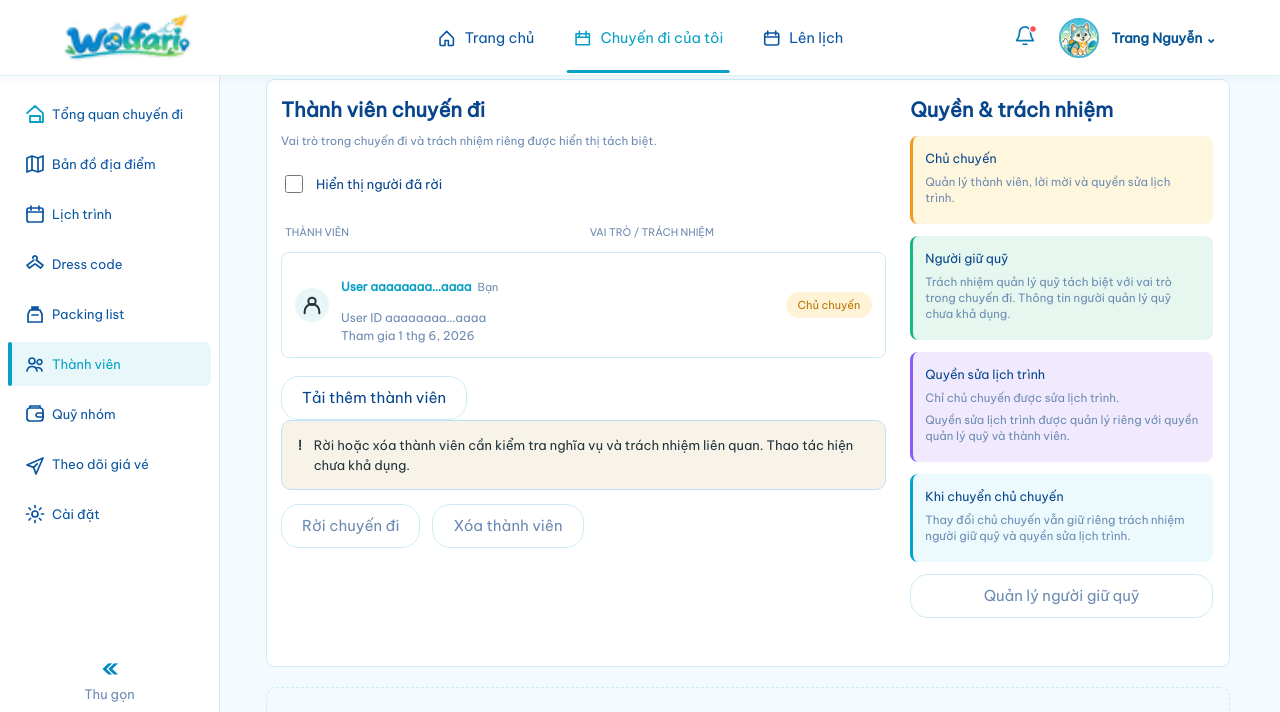
Test: loads opaque member pages, deduplicates IDs, and resets pagination when showing departed members
The width and height of the screenshot is (1280, 712).
(page scrolled)
Click the button "Tải thêm thành viên".
click(374, 398)  # box top-left (281, 376), bottom-right (467, 420)
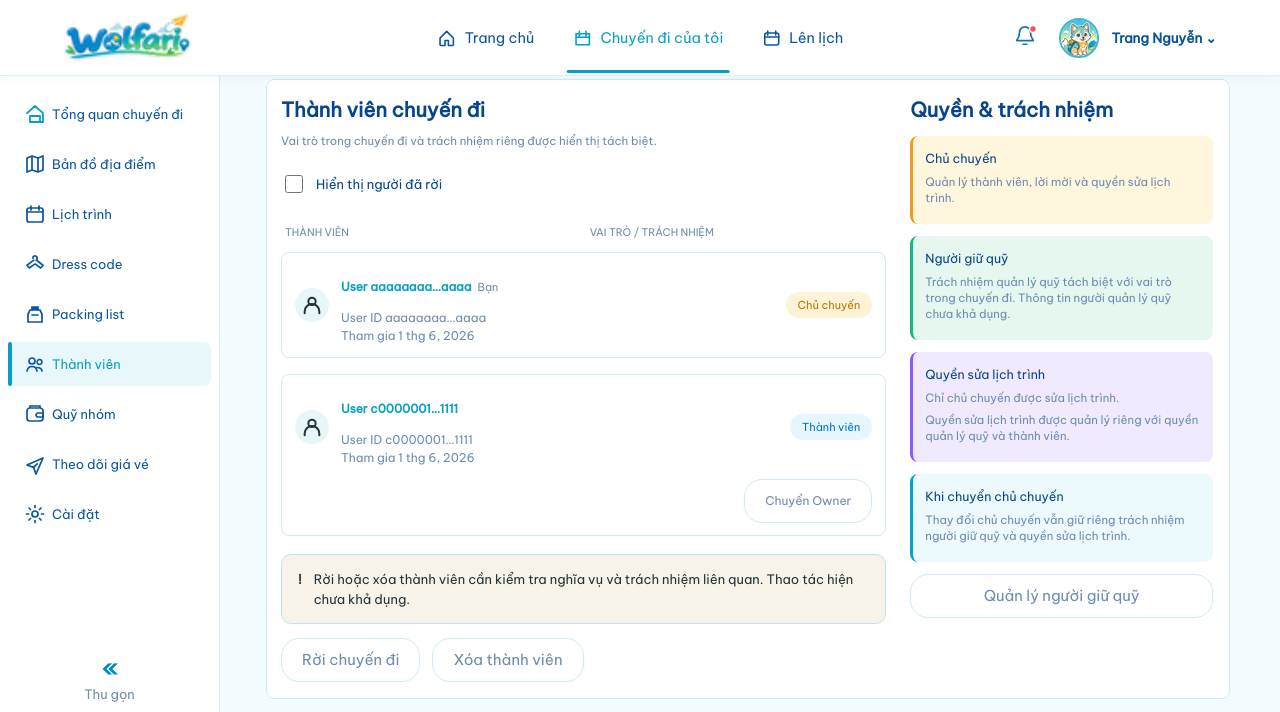
Expected: the text "User aaaaaaaa…aaaa" is shown once, top-left (341, 276), bottom-right (472, 298)
Click the checkbox labelled "Hiển thị người đã rời".
click(294, 184)  # box top-left (285, 175), bottom-right (303, 193)
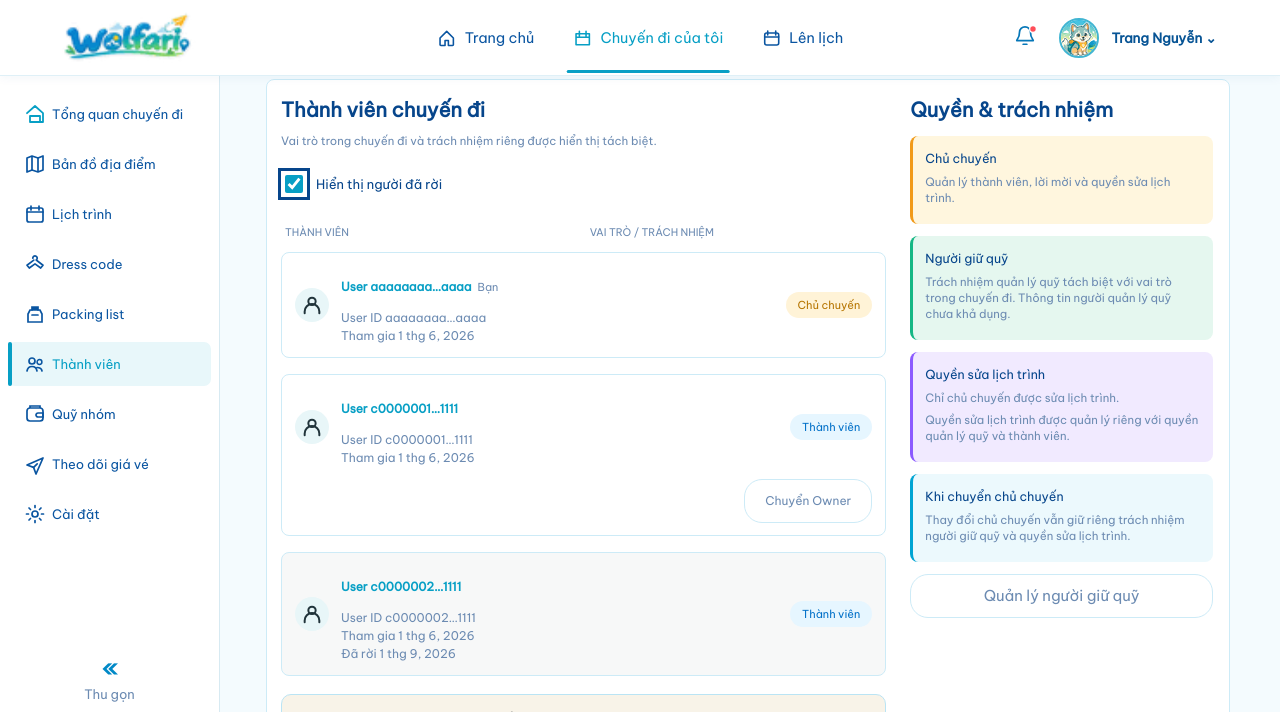
Result: the text "Đã rời" is shown at top-left (341, 646), bottom-right (380, 661)
